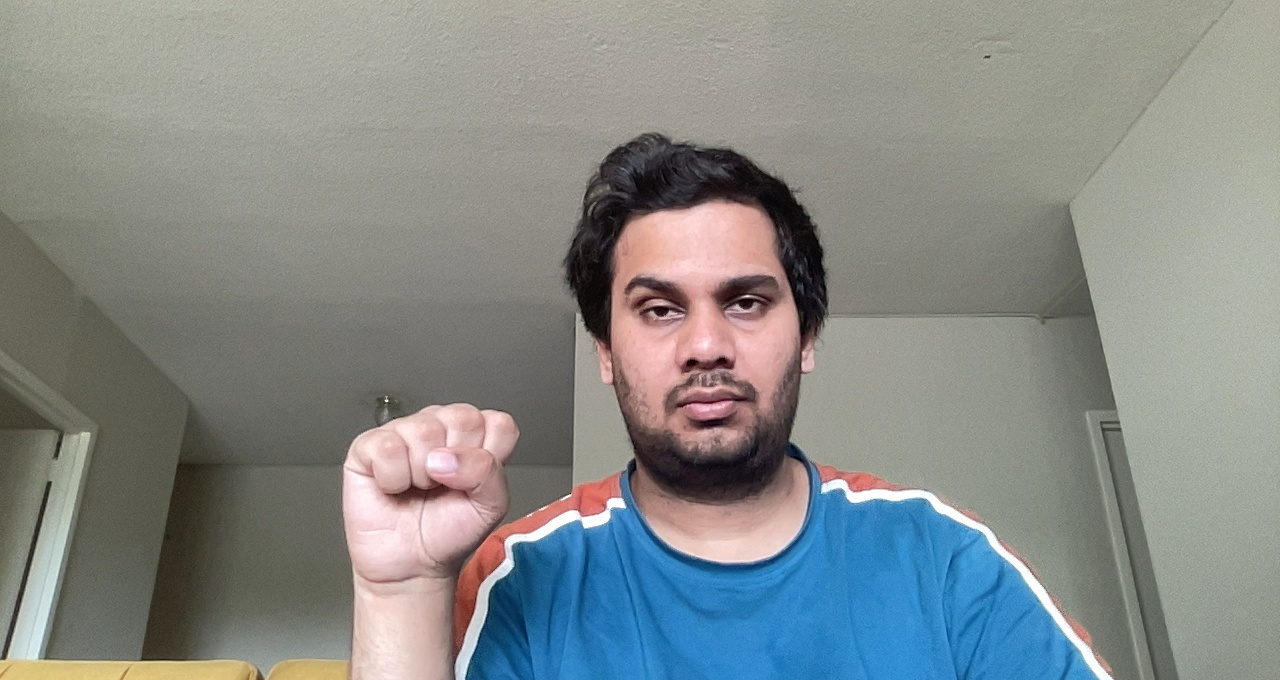closedfist: (334, 396, 529, 601)
